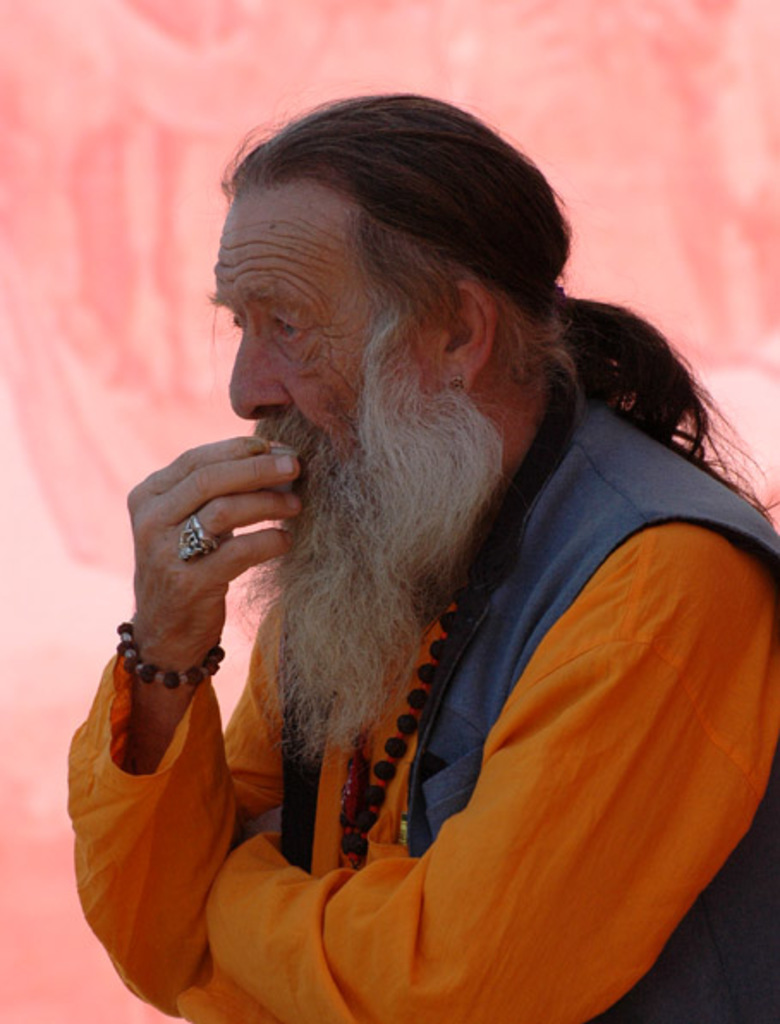face: (214, 162, 386, 574)
